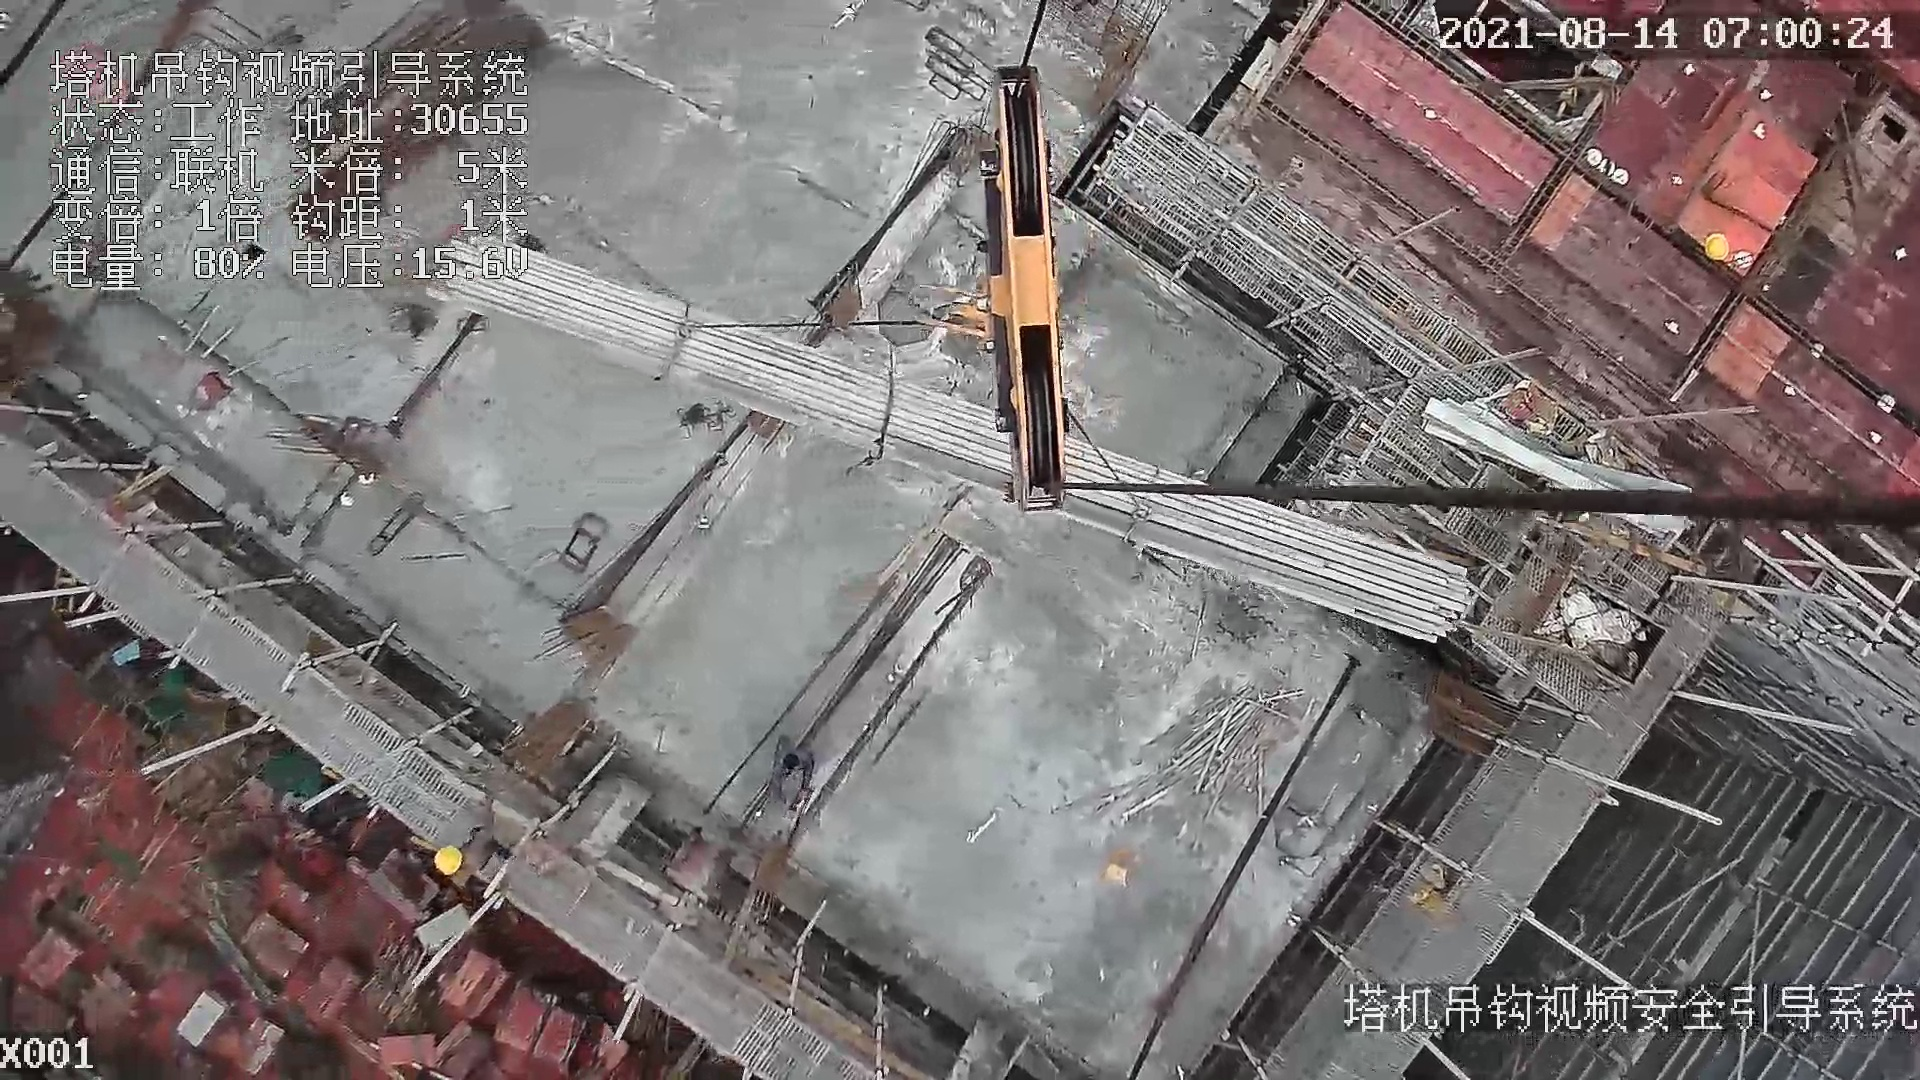helmet: (433, 846, 462, 876), (1705, 233, 1729, 261)
hook: (967, 53, 1077, 515)
person: (429, 803, 508, 880), (769, 732, 823, 826)
rebar: (528, 251, 1477, 647)
